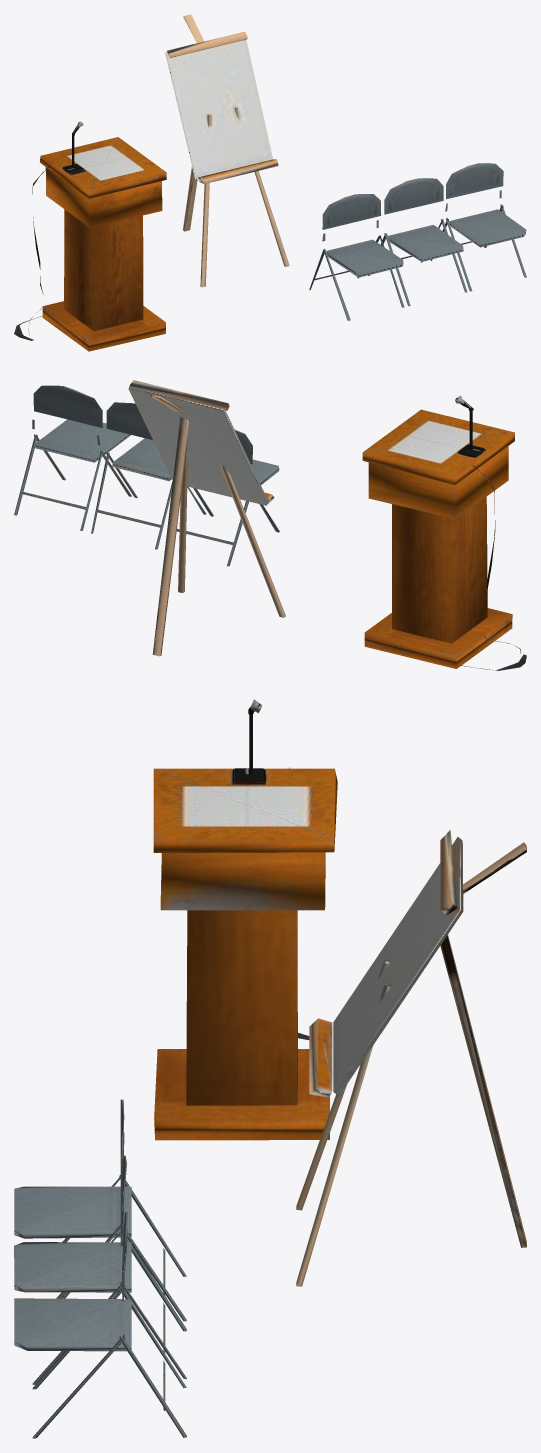
File: lecture_podium.glb
3 views of the same model, one above another, from view 1: azimuth 30°, elevation 25°; view 2: azimuth 150°, elevation 25°; view 3: azimuth 270°, elevation 25° (orthographic). The views are drawn at different scales.
Bounding box in the file's own units: 2.2 × 1.02 × 1.18.
Materials: 1 (1 with a texture image).
